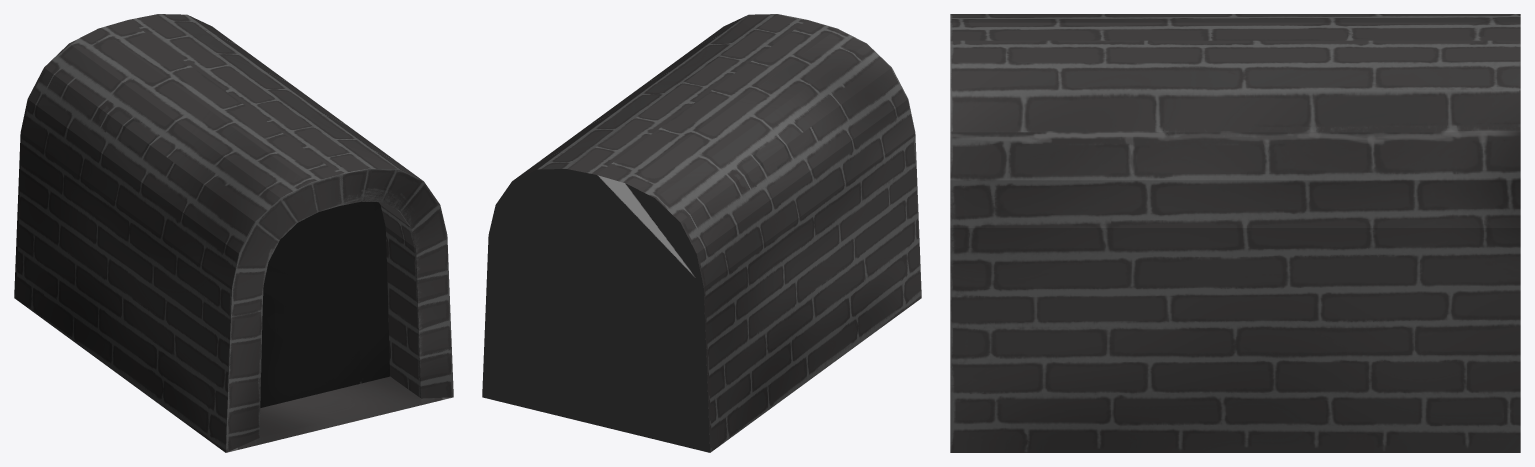
File: tunnel 1.fbx
3 renders of one model, left to right at view 1: azimuth 30°, elevation 25°; view 2: azimuth 150°, elevation 25°; view 3: azimuth 270°, elevation 25°, orthographic. The views are drawn at different scales.
Visible parts, largest first — view 1: tunnel; view 2: tunnel; view 3: tunnel.
Boxes of the visible parts, <box> form: tunnel: <box>14,14,453,452</box>; tunnel: <box>482,14,921,452</box>; tunnel: <box>950,14,1520,452</box>.
Bounding box in the file's own units: 1687 × 1769 × 2711.
1 material, 1 textured.
